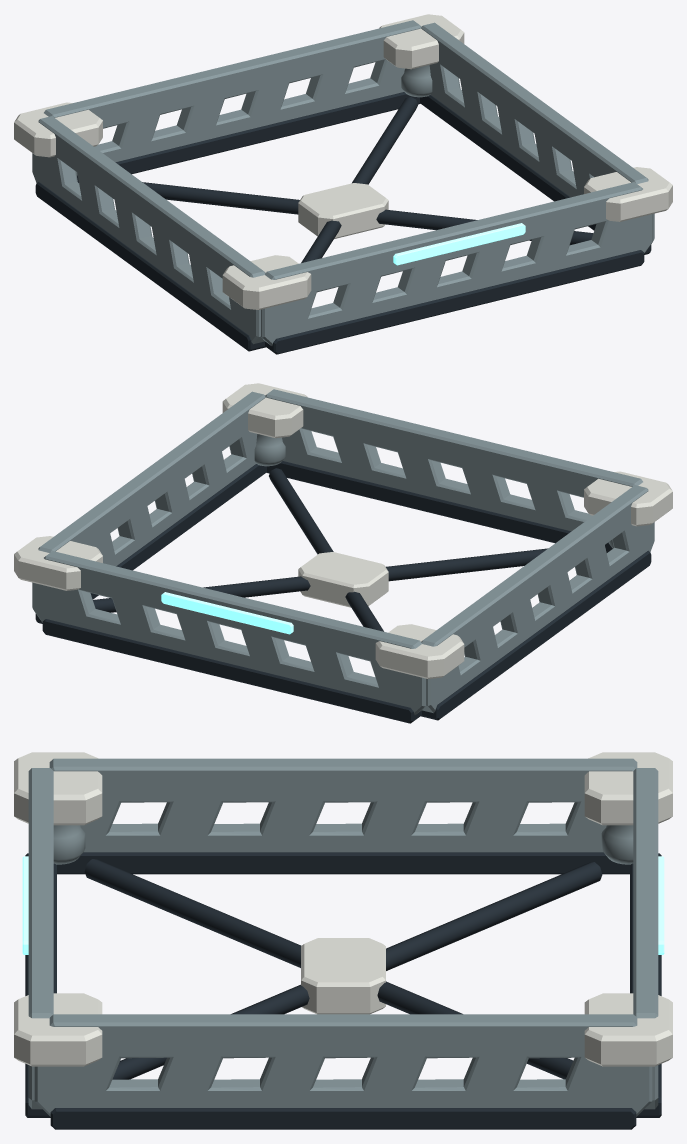
Rendered from lift-pressure-chassis.glb.
3 views of the same model, one above another, from view 1: azimuth 30°, elevation 25°; view 2: azimuth 150°, elevation 25°; view 3: azimuth 270°, elevation 25° (orthographic). The views are drawn at different scales.
Visible parts, largest first — view 1: Lift chassis • perforated load frame / alloy, Lift chassis • perforated load frame / graphite, Lift chassis • perforated load frame / ceramic, Lift chassis • perforated load frame / signal; view 2: Lift chassis • perforated load frame / alloy, Lift chassis • perforated load frame / graphite, Lift chassis • perforated load frame / ceramic, Lift chassis • perforated load frame / signal; view 3: Lift chassis • perforated load frame / alloy, Lift chassis • perforated load frame / graphite, Lift chassis • perforated load frame / ceramic, Lift chassis • perforated load frame / signal.
Boxes of the visible parts, left/top/right/bottom form: Lift chassis • perforated load frame / alloy: left=32, top=20, right=654, bottom=345; Lift chassis • perforated load frame / graphite: left=35, top=92, right=651, bottom=354; Lift chassis • perforated load frame / ceramic: left=14, top=14, right=672, bottom=309; Lift chassis • perforated load frame / signal: left=393, top=223, right=525, bottom=265; Lift chassis • perforated load frame / alloy: left=32, top=389, right=654, bottom=714; Lift chassis • perforated load frame / graphite: left=35, top=461, right=651, bottom=723; Lift chassis • perforated load frame / ceramic: left=14, top=383, right=672, bottom=678; Lift chassis • perforated load frame / signal: left=161, top=592, right=293, bottom=634; Lift chassis • perforated load frame / alloy: left=28, top=758, right=658, bottom=1116; Lift chassis • perforated load frame / graphite: left=25, top=852, right=661, bottom=1129; Lift chassis • perforated load frame / ceramic: left=14, top=752, right=672, bottom=1066; Lift chassis • perforated load frame / signal: left=22, top=856, right=664, bottom=954.
Size of the model in its own units: 4 by 0.687 by 3.88.
